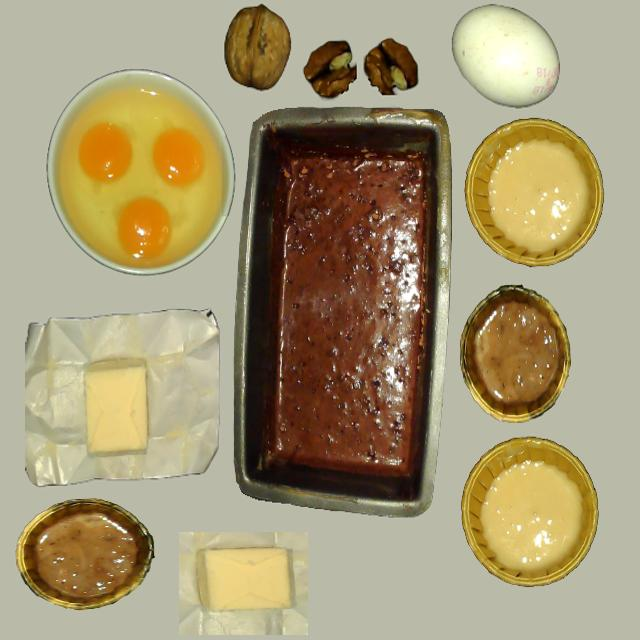Egg: (117, 198, 173, 259), (78, 123, 133, 183), (152, 129, 204, 187)
Walnut: (224, 5, 291, 90)
